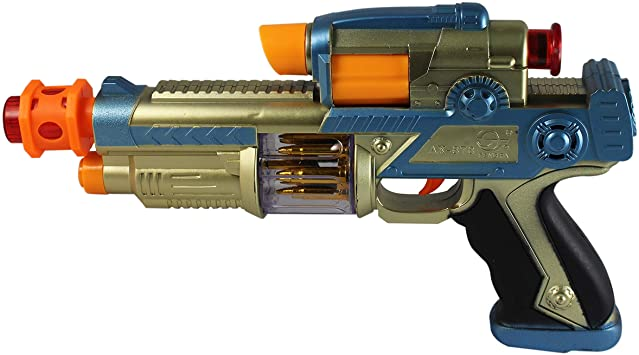Arma Falsa: (1, 2, 635, 355)
